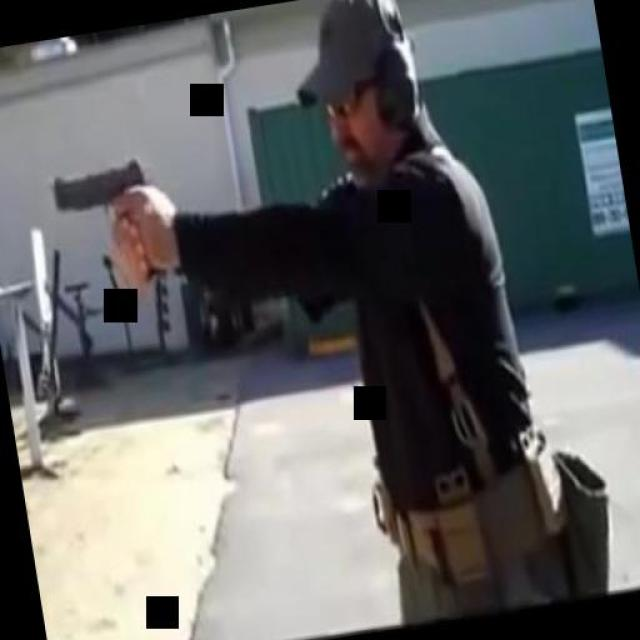gun: (45, 155, 166, 294)
